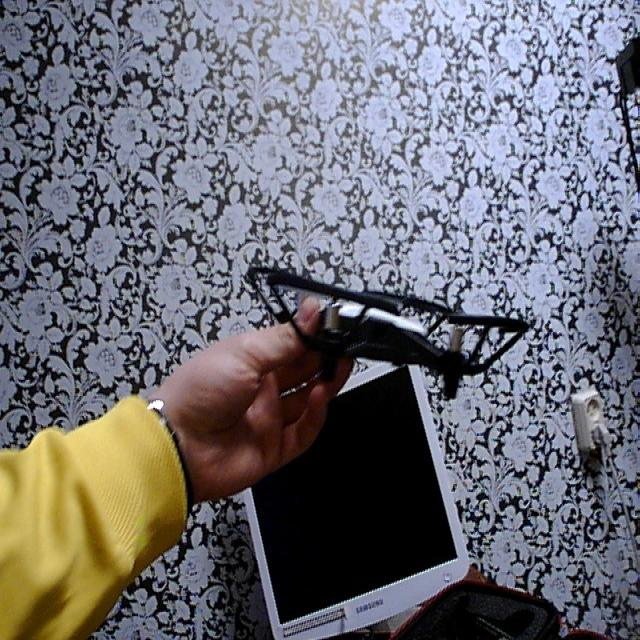drone: (229, 230, 536, 442)
